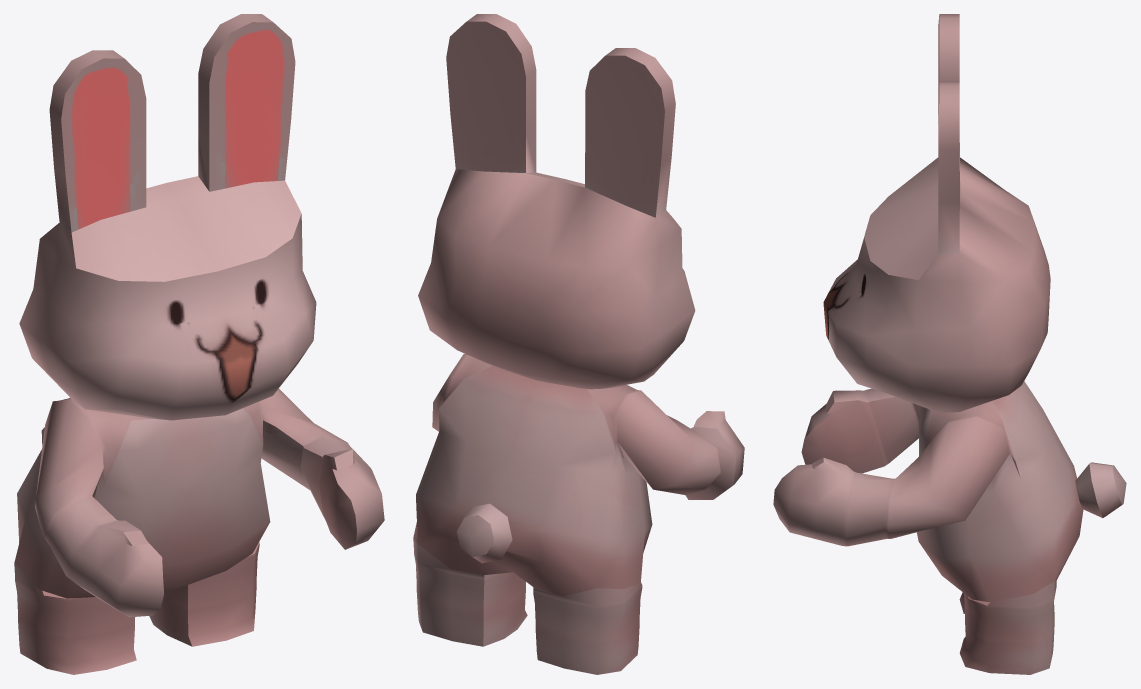
3 renders of one model, left to right at view 1: azimuth 30°, elevation 25°; view 2: azimuth 150°, elevation 25°; view 3: azimuth 270°, elevation 25°, orthographic. The views are drawn at different scales.
Visible parts, largest first — view 1: Rb_R_S6; view 2: Rb_R_S6; view 3: Rb_R_S6.
Boxes of the visible parts, x1,y1,x2,y2 form: Rb_R_S6: (14, 14, 384, 674); Rb_R_S6: (413, 14, 744, 674); Rb_R_S6: (773, 14, 1126, 674).
Bounding box in the file's own units: 3.03 × 6 × 3.35.
